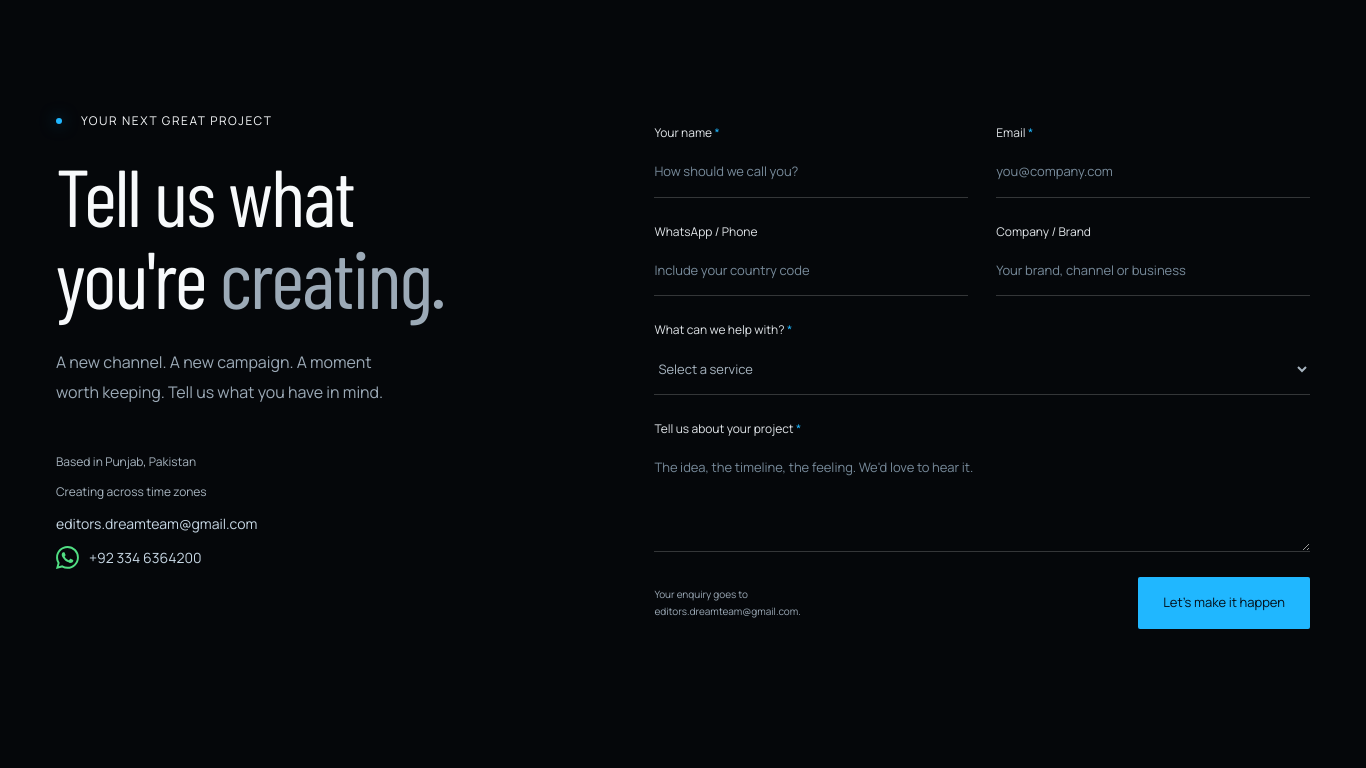
Test: preserves the enquiry and offers direct contact when activation is required
This screenshot has width=1366, height=768.
In the field with placeholder "How should we call you?": (811, 172) 654,147 -> 968,198, type "Test Creator"
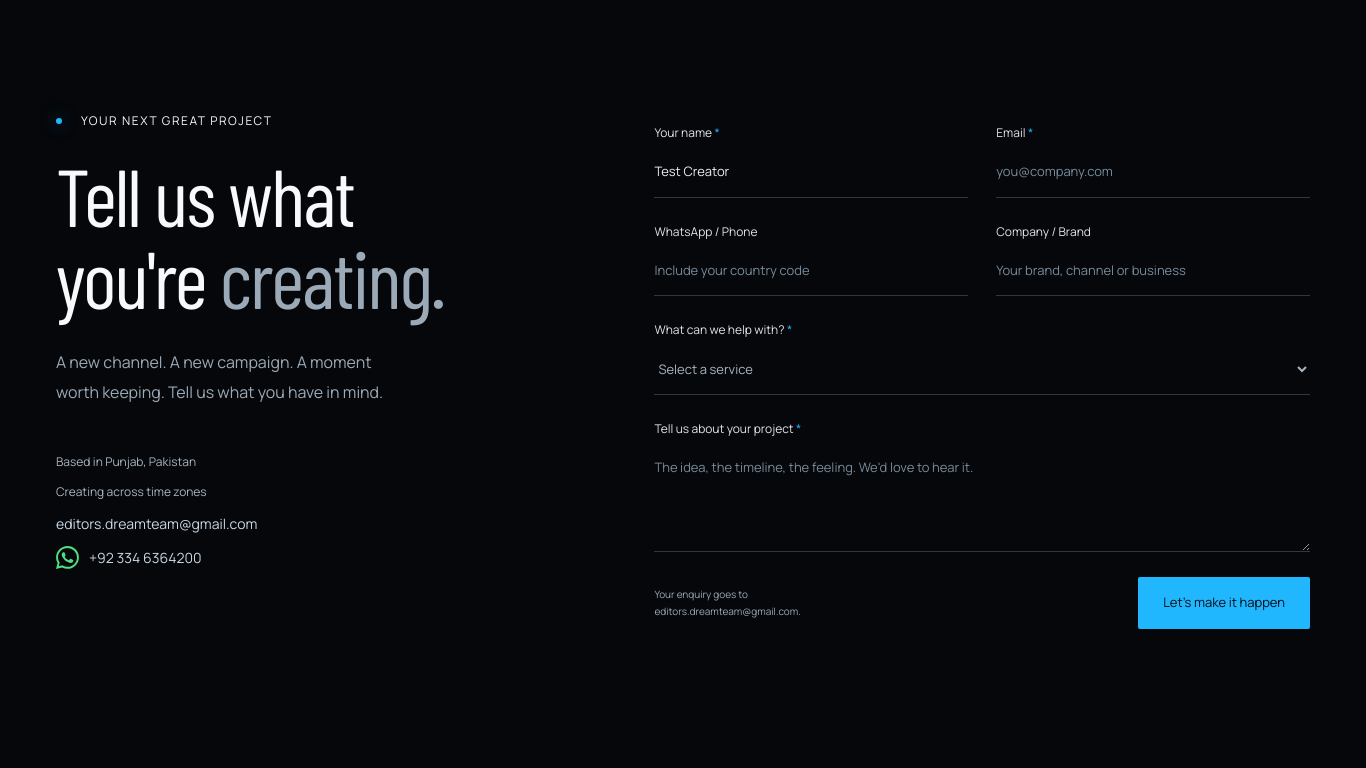
In the field with placeholder "you@company.com": (1153, 172) 996,147 -> 1310,198, type "test@example.com"
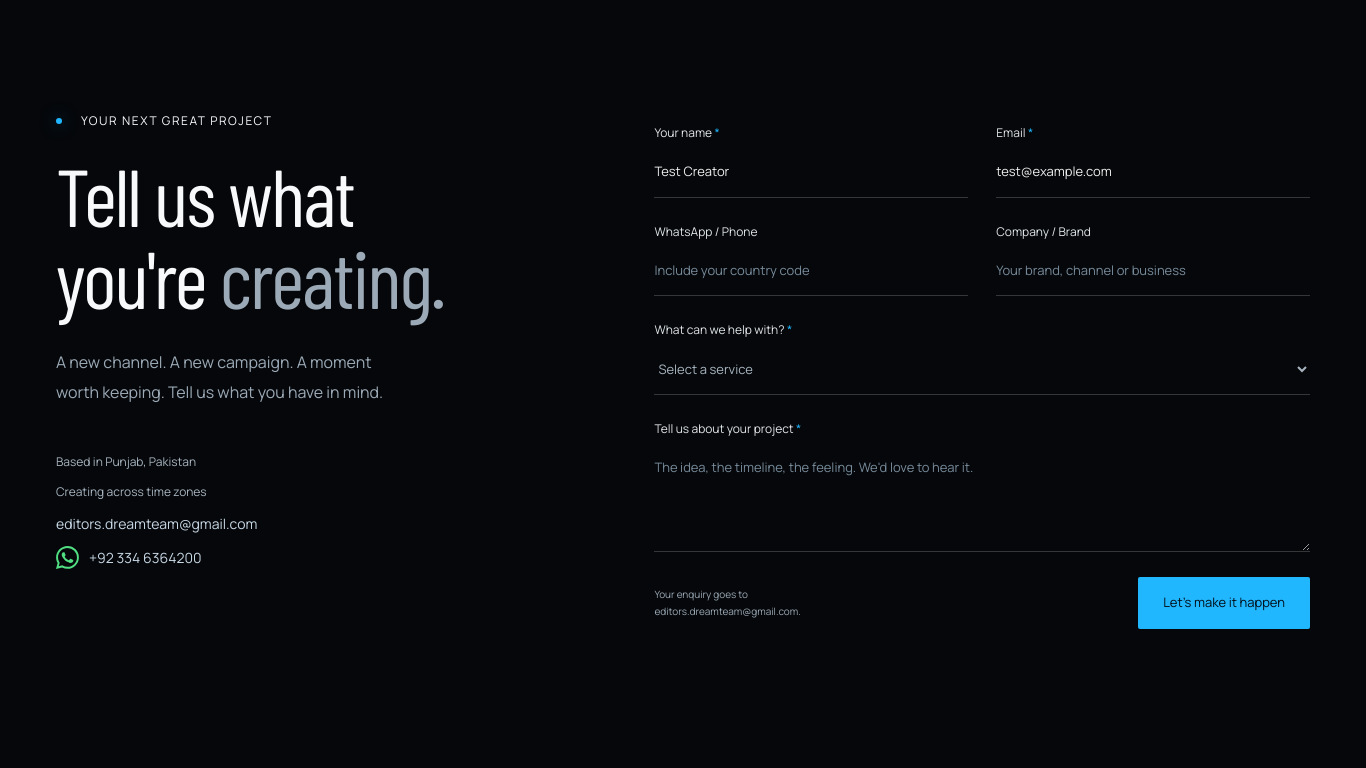
Select "Color Grading" in the dropdown: (982, 370) 654,344 -> 1310,395
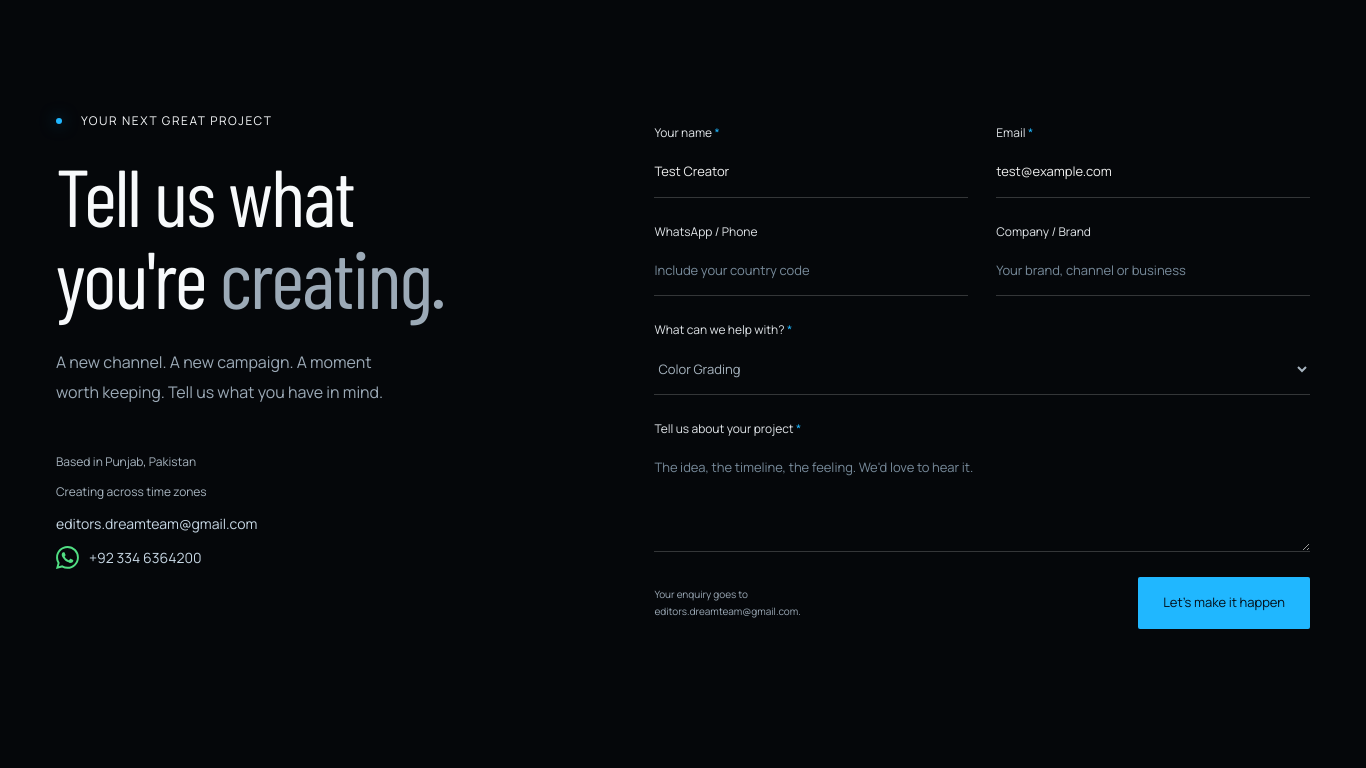
In the text box labelled "Tell us about your project *": (982, 498) 654,443 -> 1310,552, type "A cinematic color grade for a short brand film."
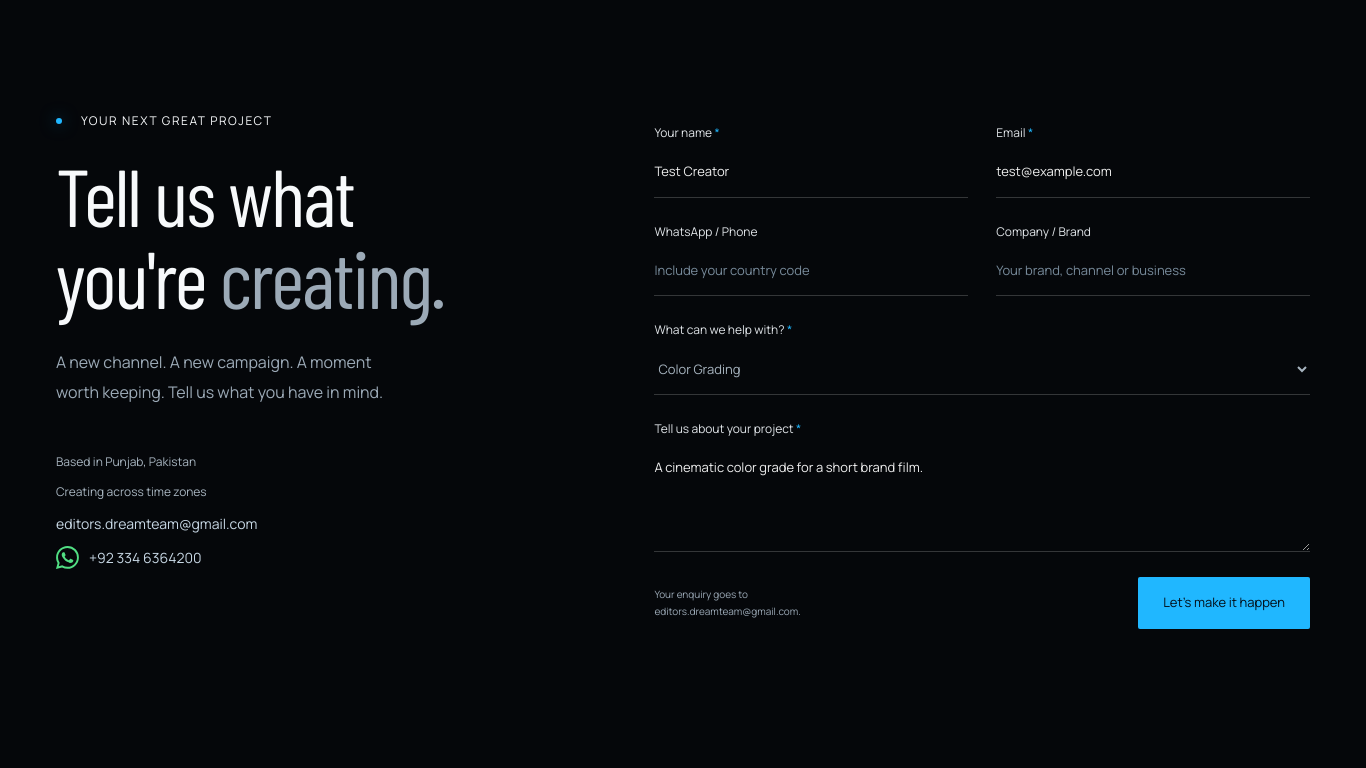
Click the button "Let’s make it happen": click(1224, 603) 1138,577 -> 1310,628
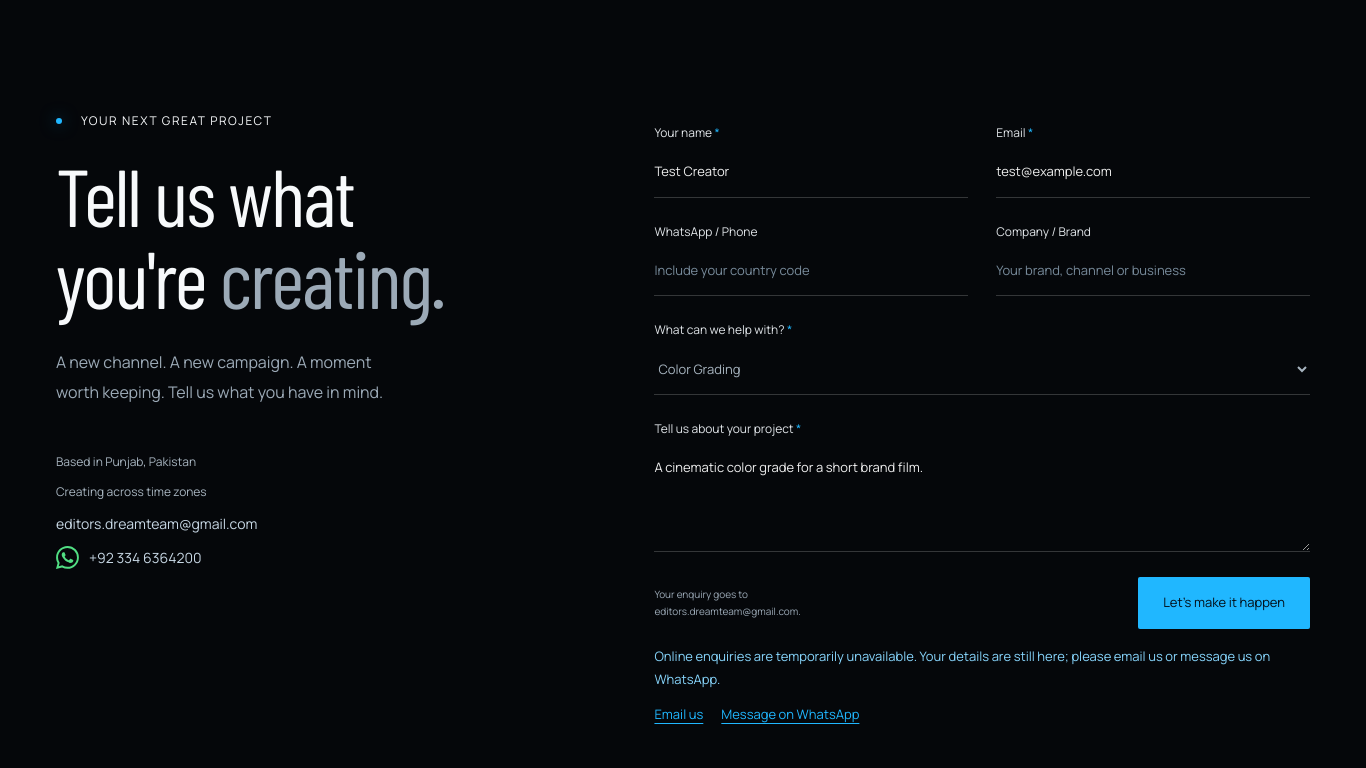
Expected: the message shows "temporarily unavailable", 654,646 -> 1270,688
